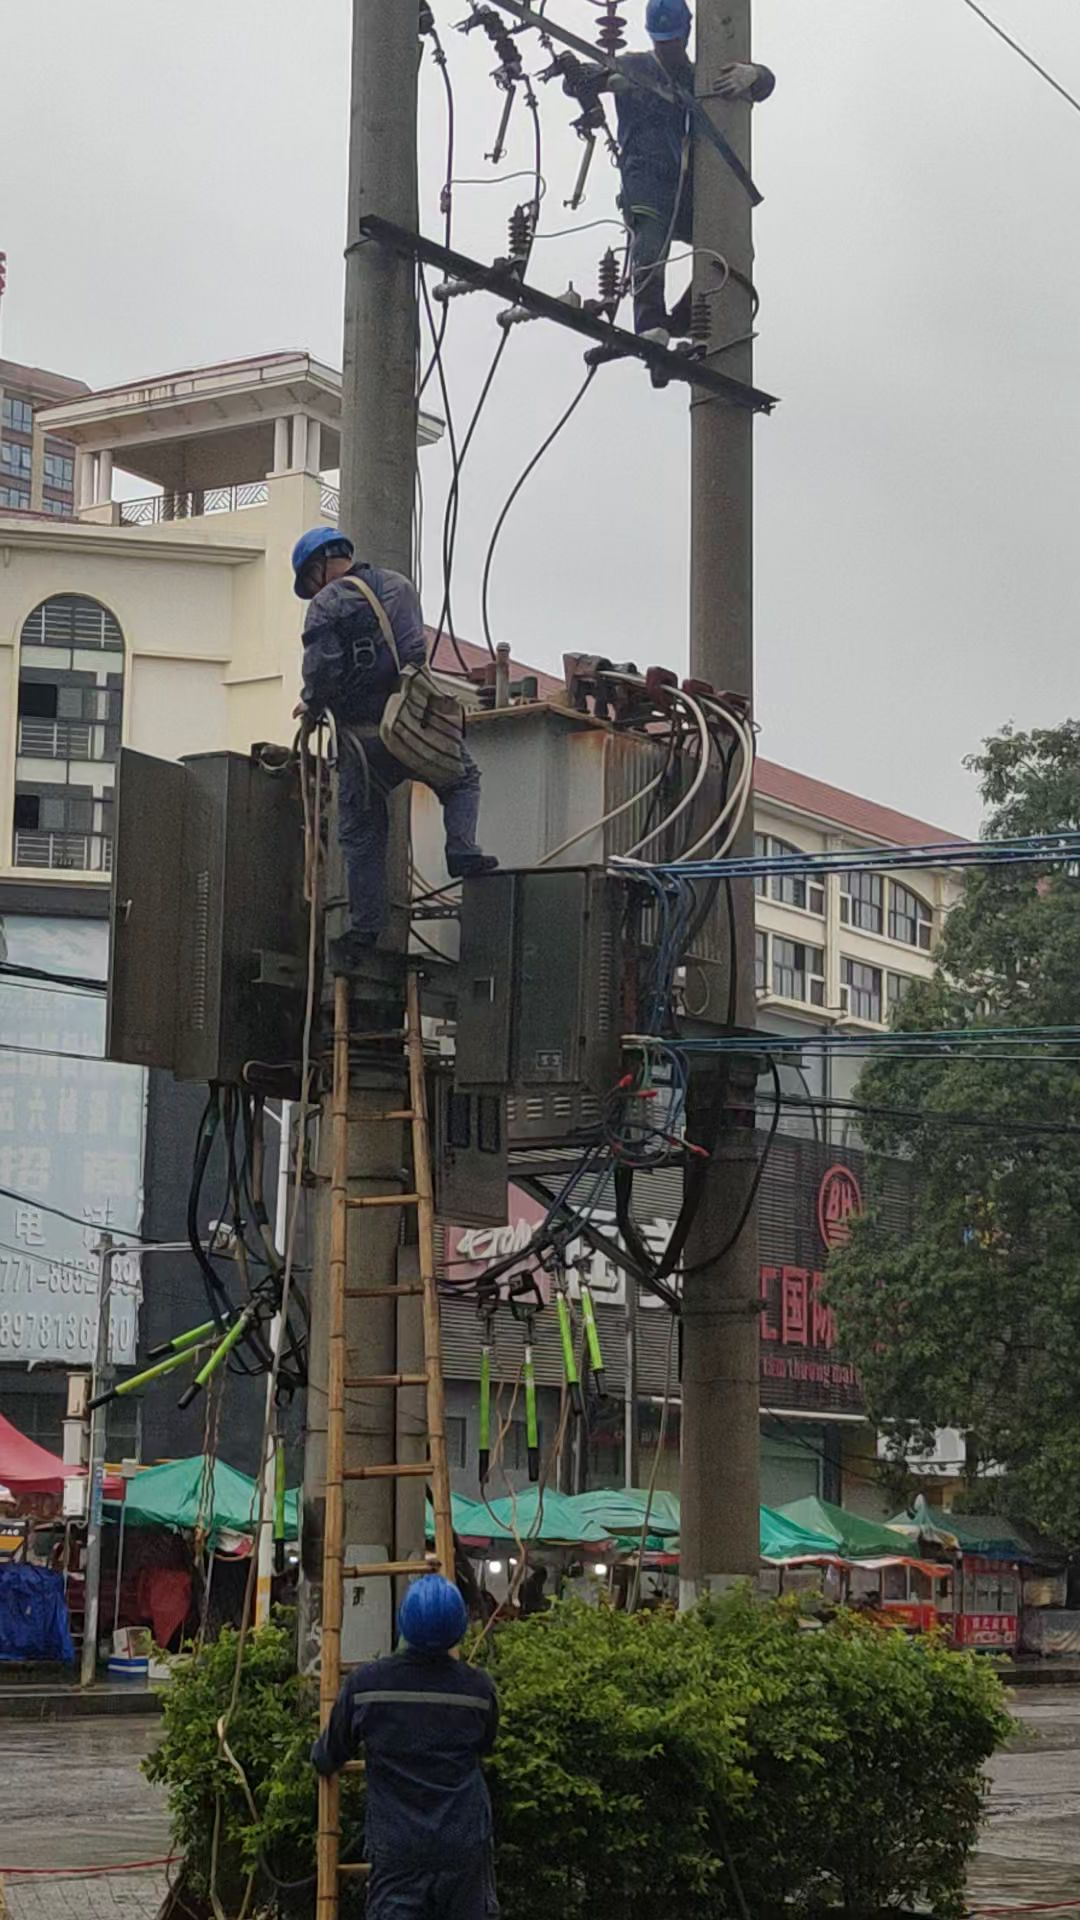downsuit: (332, 726, 464, 937), (618, 169, 710, 340), (353, 1860, 503, 1920)
halt: (394, 1573, 469, 1652), (289, 526, 357, 596), (642, 1, 696, 40)
hand: (712, 58, 751, 97)
inear: (301, 554, 337, 586)
person: (282, 525, 487, 960), (308, 1570, 510, 1920), (605, 1, 737, 351)
upsuit: (312, 1655, 504, 1854), (299, 566, 419, 713), (610, 42, 714, 193)
